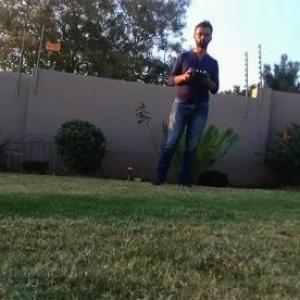follow: (144, 14, 223, 190)
